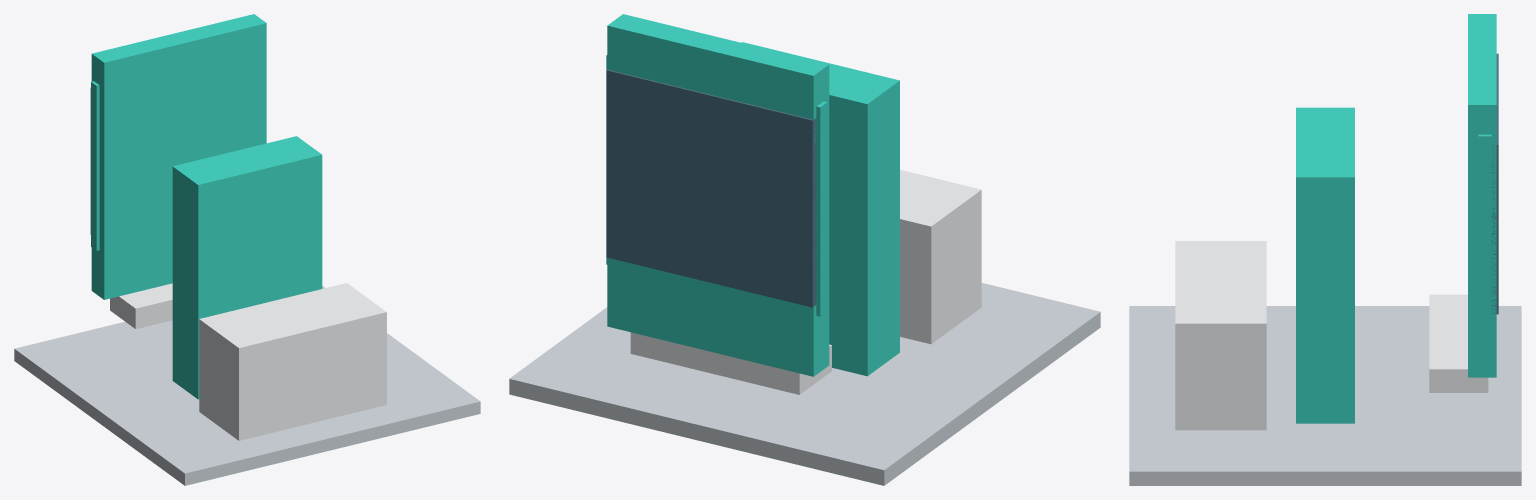
The picture shows the model from 3 angles, left to right: view 1: azimuth 30°, elevation 25°; view 2: azimuth 150°, elevation 25°; view 3: azimuth 270°, elevation 25°; orthographic projection. The views are drawn at different scales.
Parts seen in each view (by area): view 1: Exhibition Booth Concept; view 2: Exhibition Booth Concept; view 3: Exhibition Booth Concept.
Part boxes in pixels (x1,y1,x2,y2): Exhibition Booth Concept: (14,14,480,485); Exhibition Booth Concept: (509,14,1100,485); Exhibition Booth Concept: (1129,14,1521,485).
Bounding box in the file's own units: 3 × 2.9 × 3.
